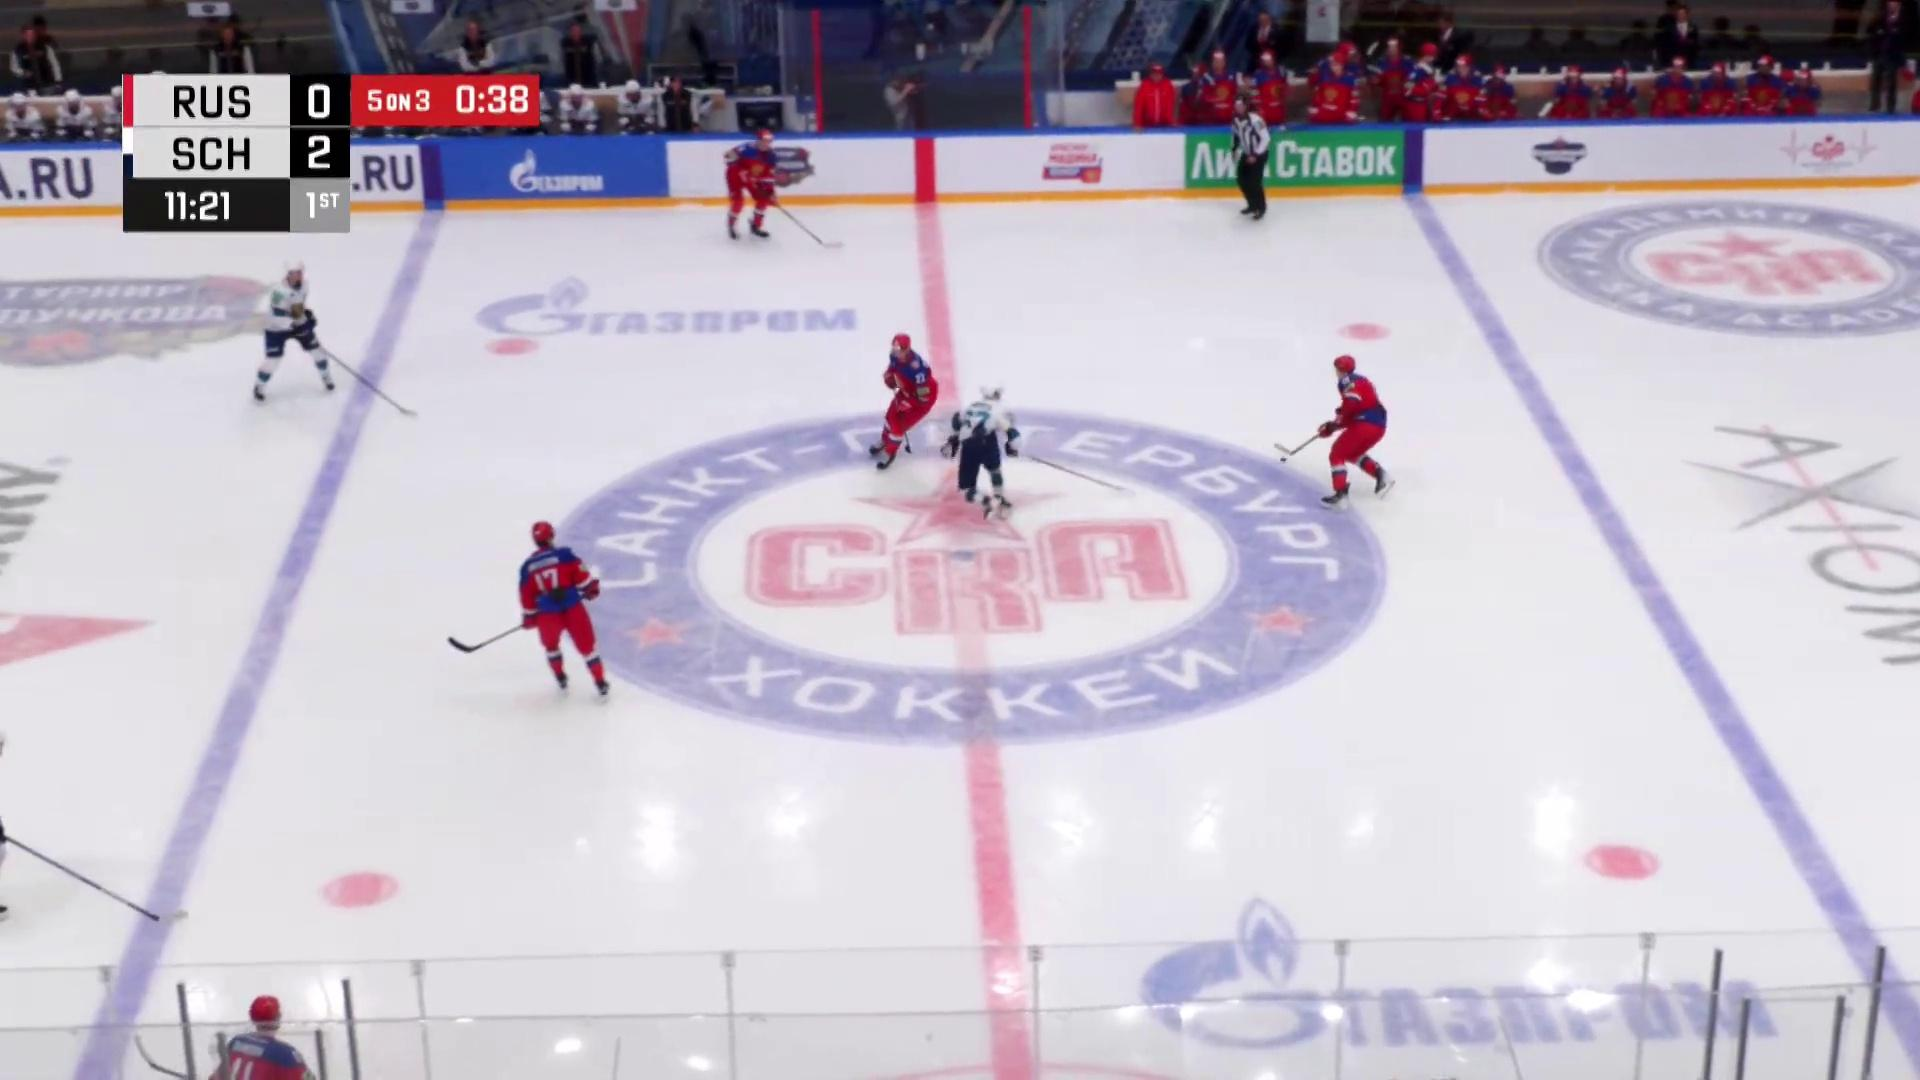ball: (1279, 456, 1288, 463)
